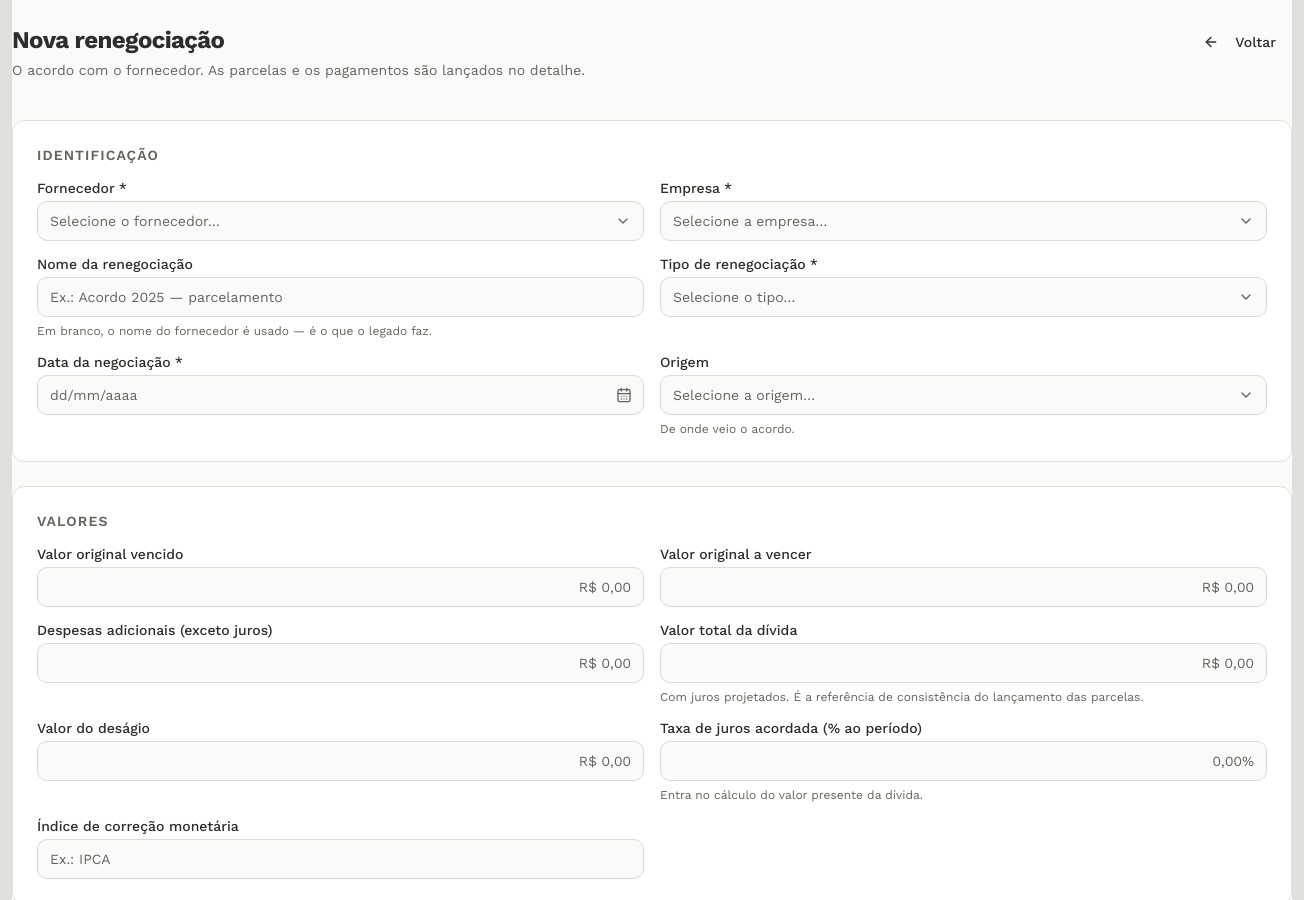
Test case: Nova renegociação — o fornecedor já usado não é oferecido › sem renegociação nenhuma, todos ficam disponíveis
Check: the heading "Nova renegociação" is shown, box [12,26,224,54]
Click the dropdown labelled "Selecione o fornecedor…". click: (135,221)
box: [37,201,644,241]
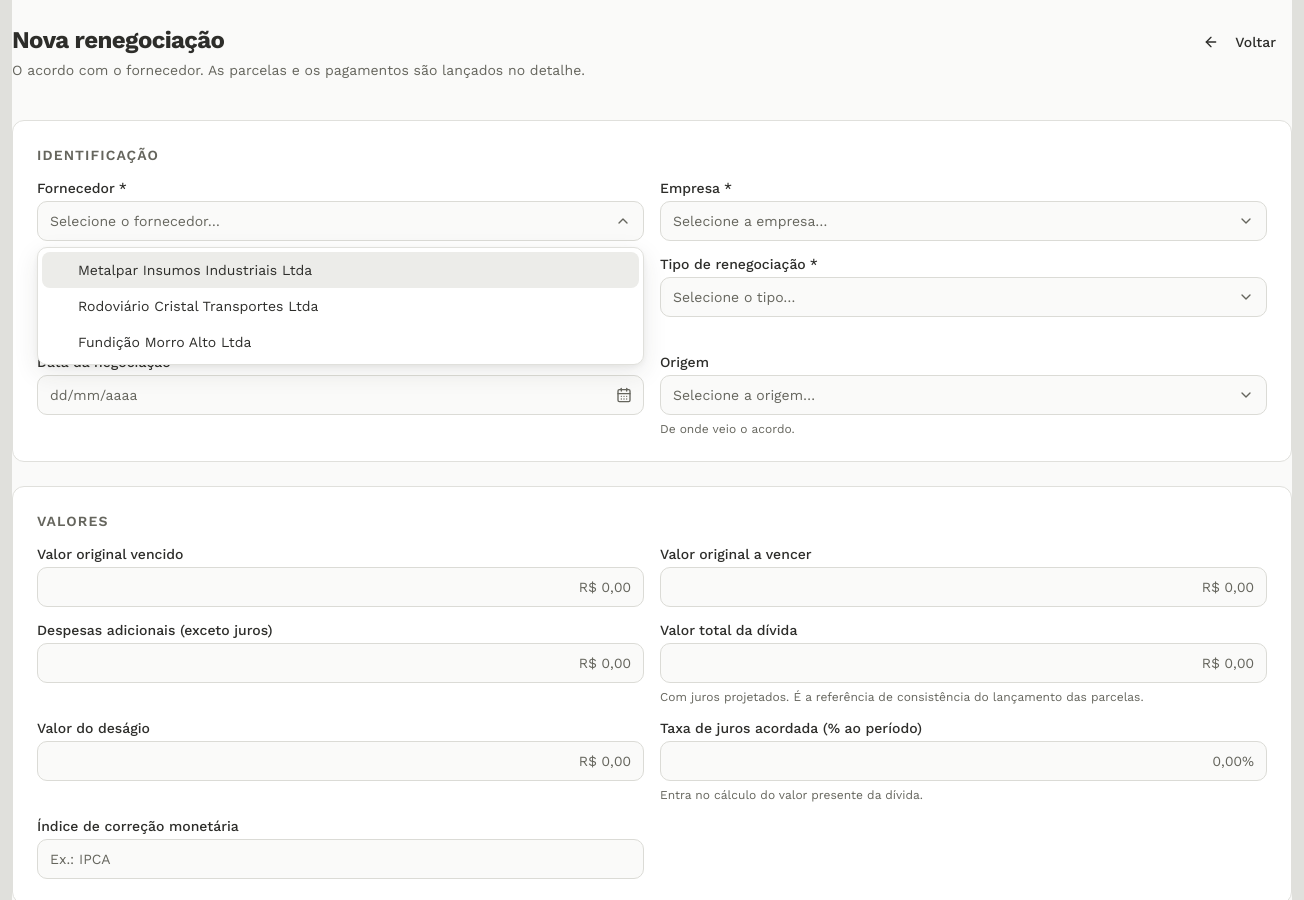
Check: the option "Metalpar Insumos Industriais Ltda" is enabled, box [42,252,639,288]
Check: the option "Rodoviário Cristal Transportes Ltda" is enabled, box [42,288,639,324]
Check: the option "Fundição Morro Alto Ltda" is enabled, box [42,324,639,360]
